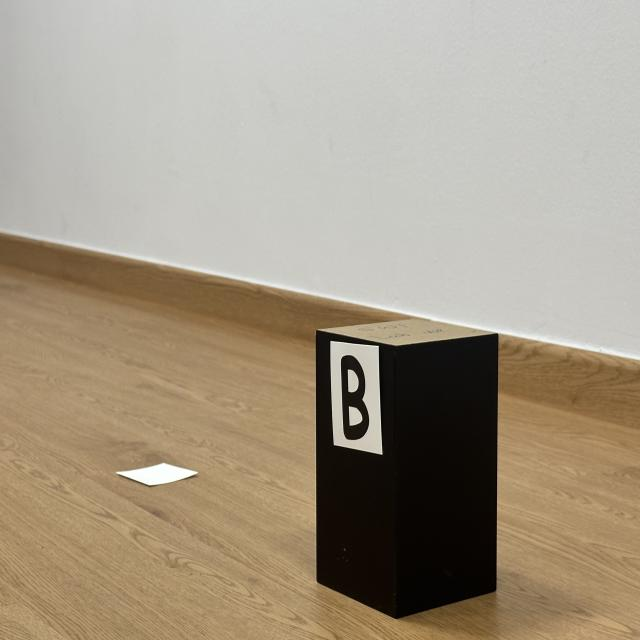B: (341, 355, 369, 440)
